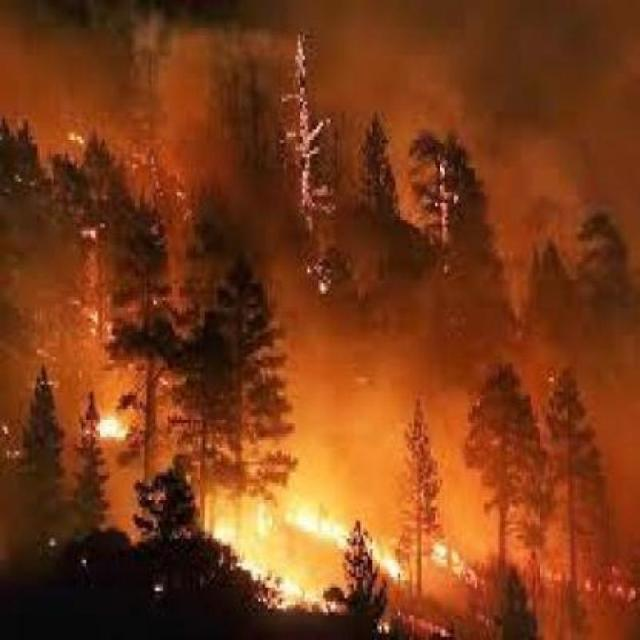Fire: (1, 170, 640, 639)
